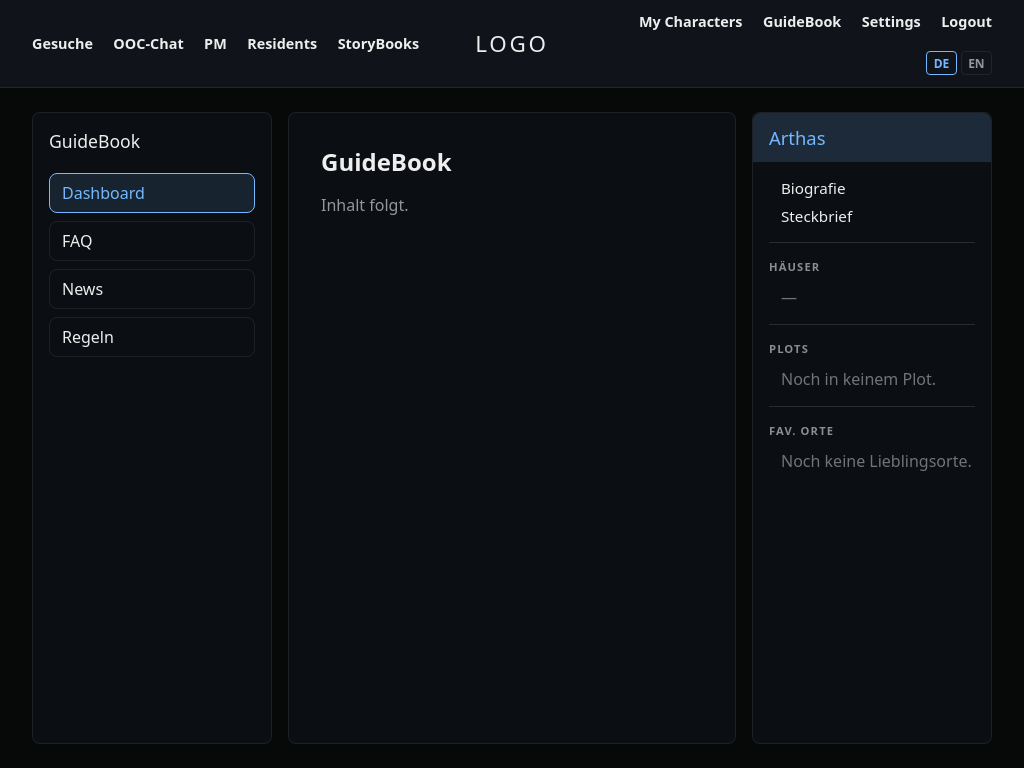
Test case: switches to FAQ and Rules from the left nav
Click the button "FAQ".
click(152, 241)  # box left=49, top=221, right=255, bottom=261
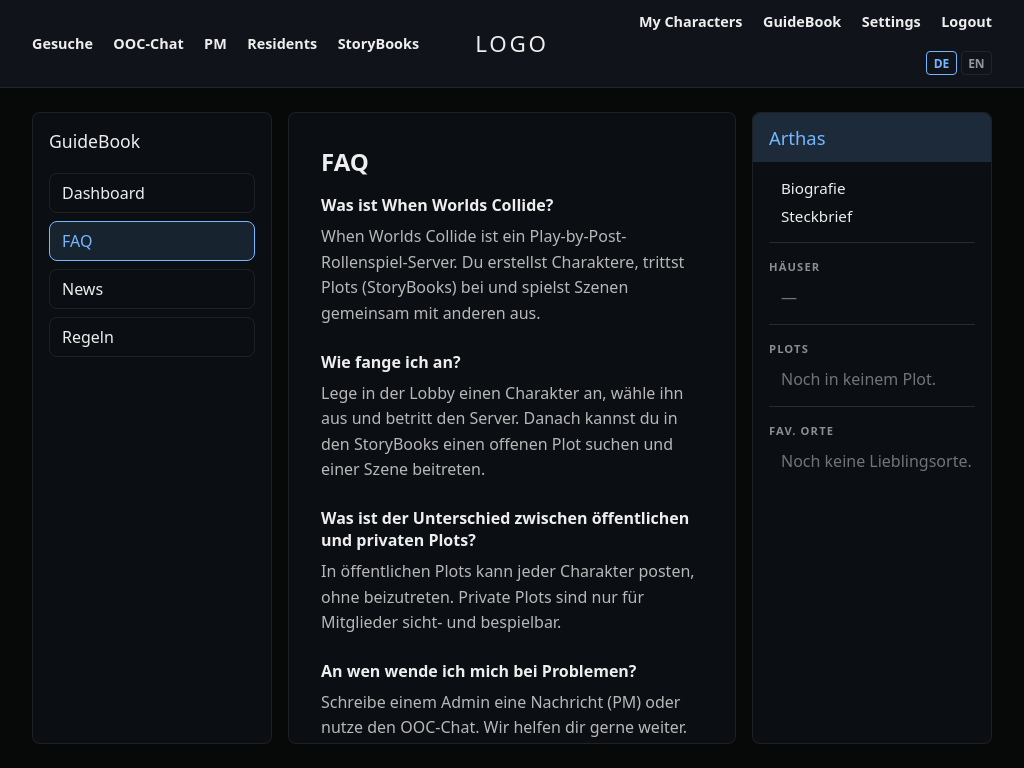
Expected: the text "Was ist When Worlds Collide?" is shown, left=321, top=194, right=553, bottom=216
Click the button "Regeln".
click(152, 337)  # box left=49, top=317, right=255, bottom=357
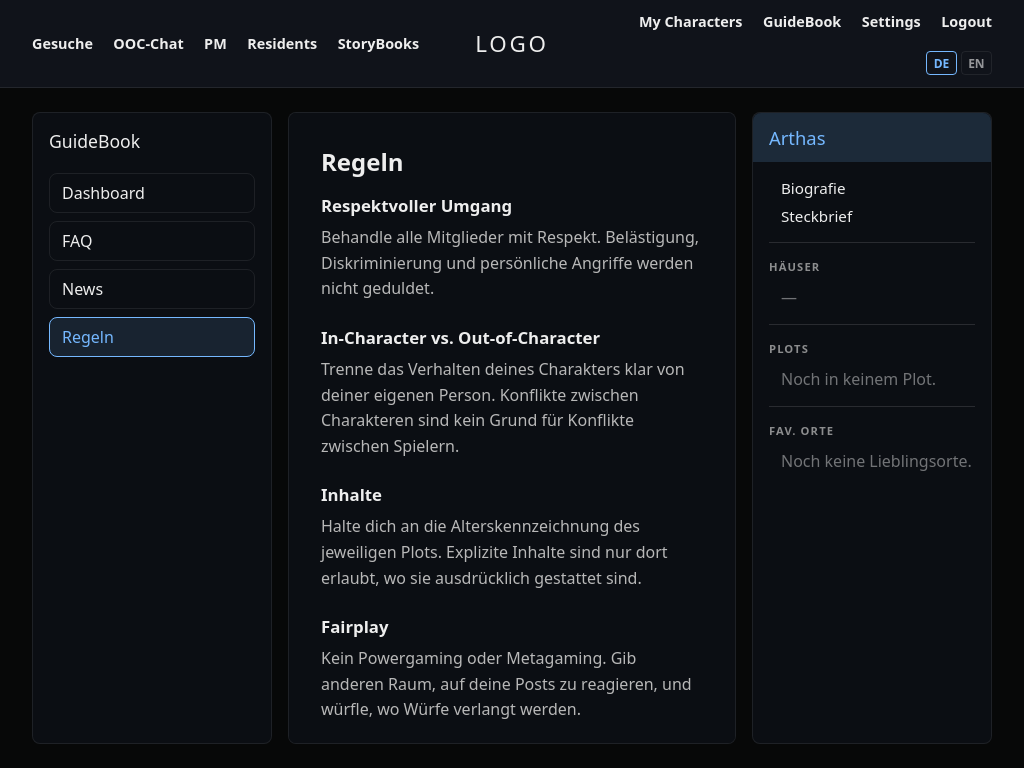
Expected: the heading "Respektvoller Umgang" is shown, left=321, top=194, right=512, bottom=217
